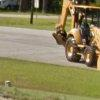Tractor: (50, 5, 100, 84)
